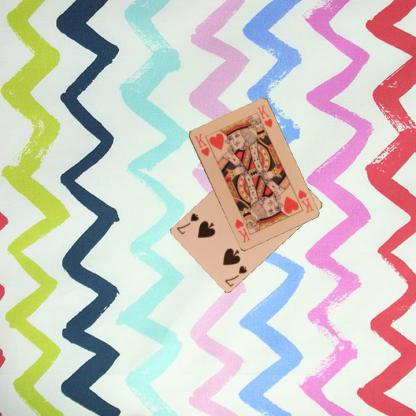7s: (223, 262, 249, 288)
Kh: (295, 187, 315, 214), (192, 130, 210, 158)
